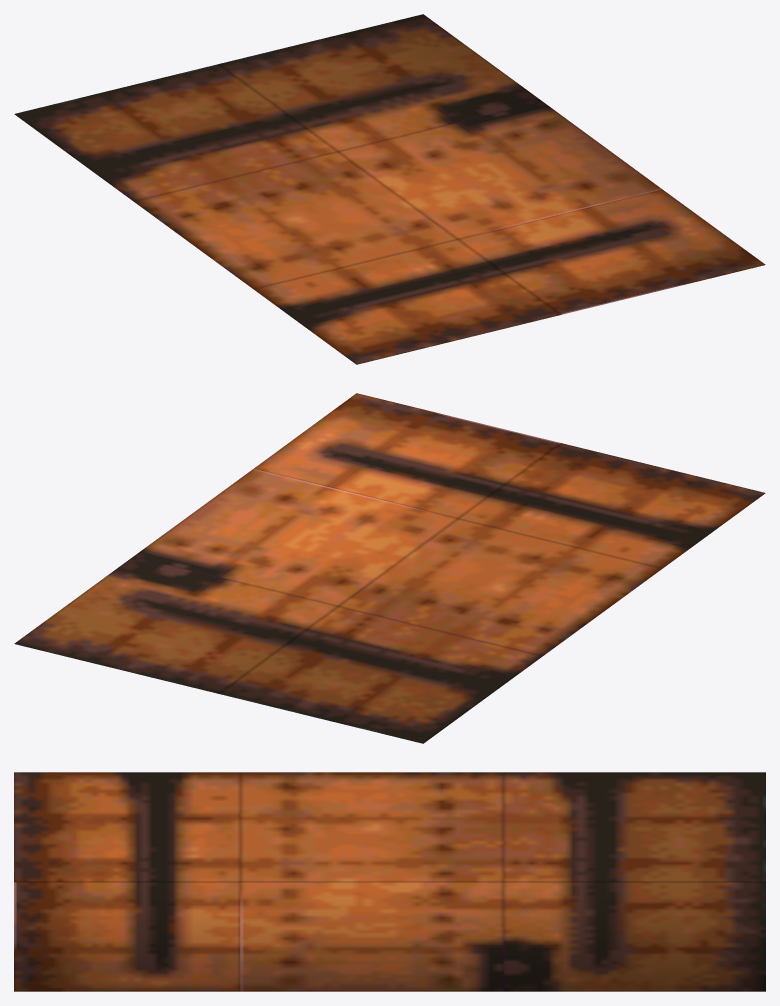
3 views of the same model, one above another, from view 1: azimuth 30°, elevation 25°; view 2: azimuth 150°, elevation 25°; view 3: azimuth 270°, elevation 25° (orthographic). The views are drawn at different scales.
Parts seen in each view (by area): view 1: T1L6M001_3; view 2: T1L6M001_3; view 3: T1L6M001_3.
Part boxes in pixels (x1,y1,x2,y2): T1L6M001_3: [14, 14, 765, 364]; T1L6M001_3: [14, 393, 765, 743]; T1L6M001_3: [14, 772, 765, 991].
Size of the model in its own units: 1.94 by 0 by 2.81.
